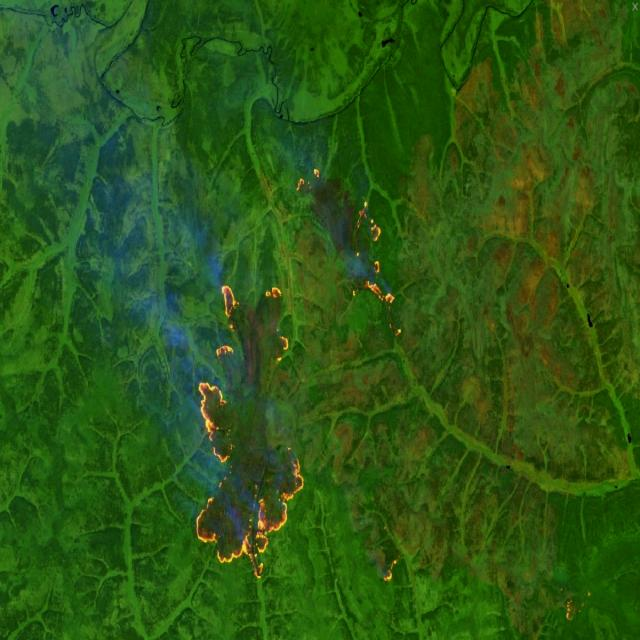fire: (190, 281, 308, 587), (346, 190, 398, 314), (291, 161, 326, 202), (375, 550, 402, 586)
